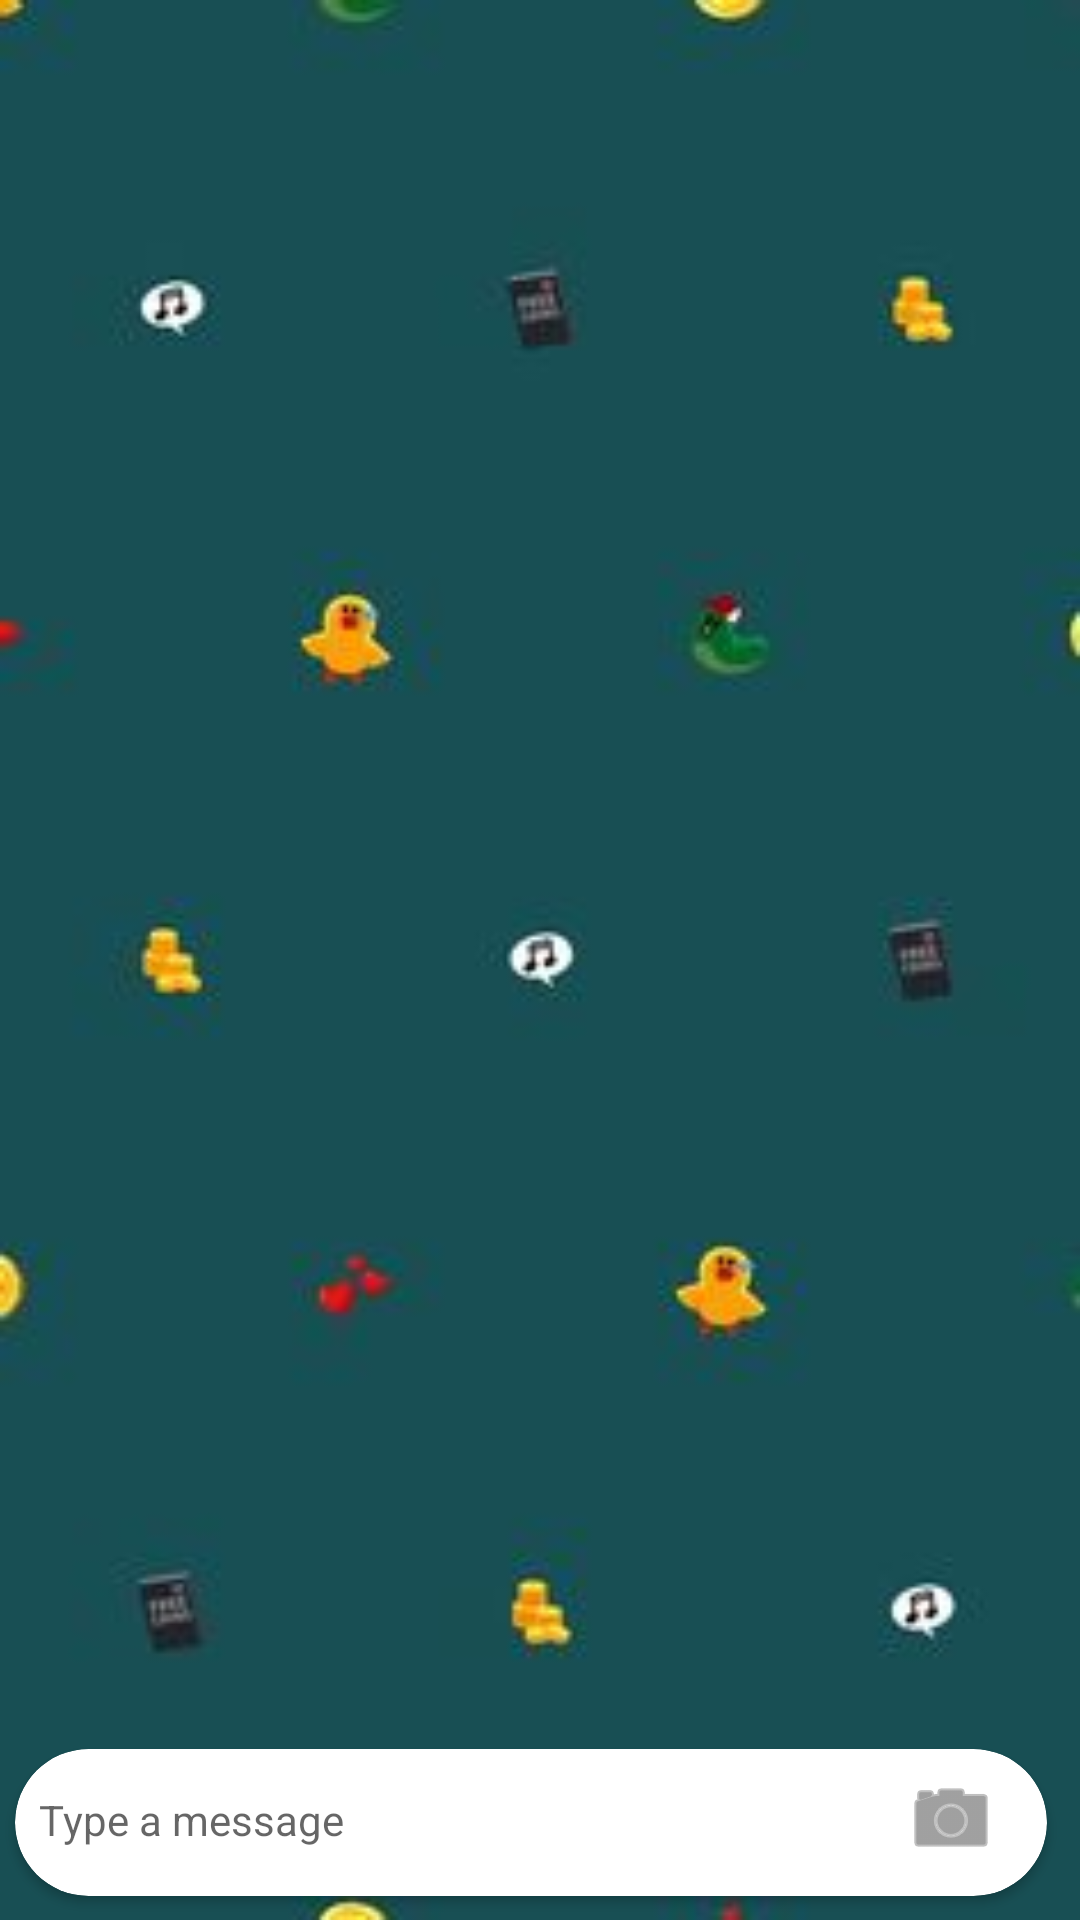

Icons on this 1080px×1920px Android screen, each with its box as [left=x1, top=y1, right=x2, bottom=y2]:
camera: [left=914, top=1788, right=988, bottom=1847]
